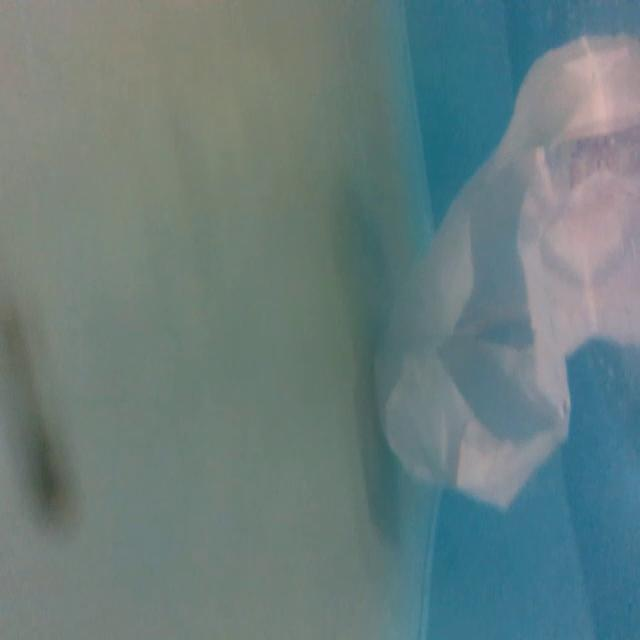plastic bags: (366, 19, 640, 520)
